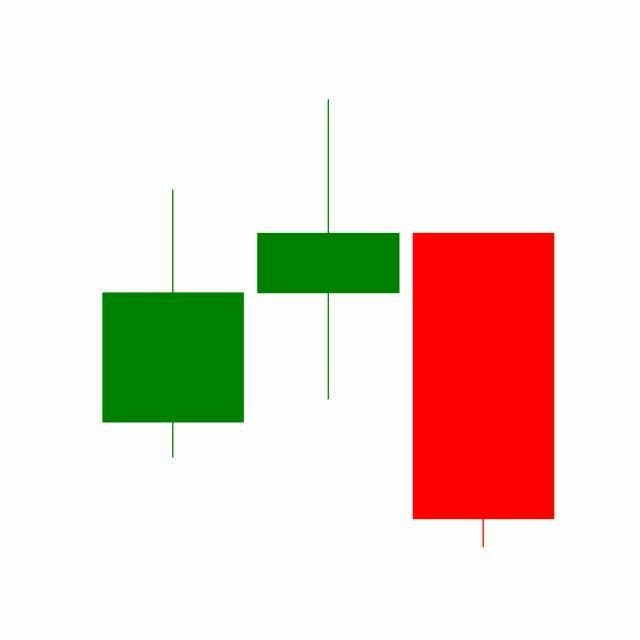Marubozu: (406, 230, 562, 552)
